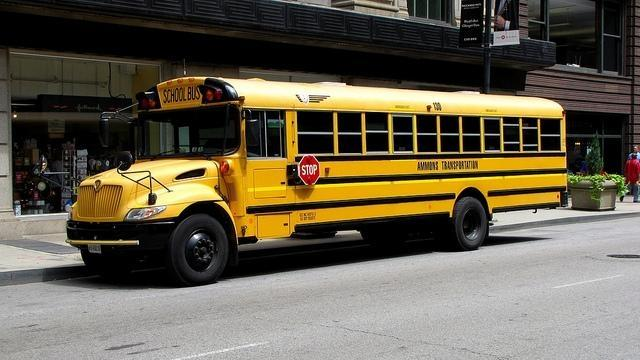bus: (65, 78, 568, 278)
